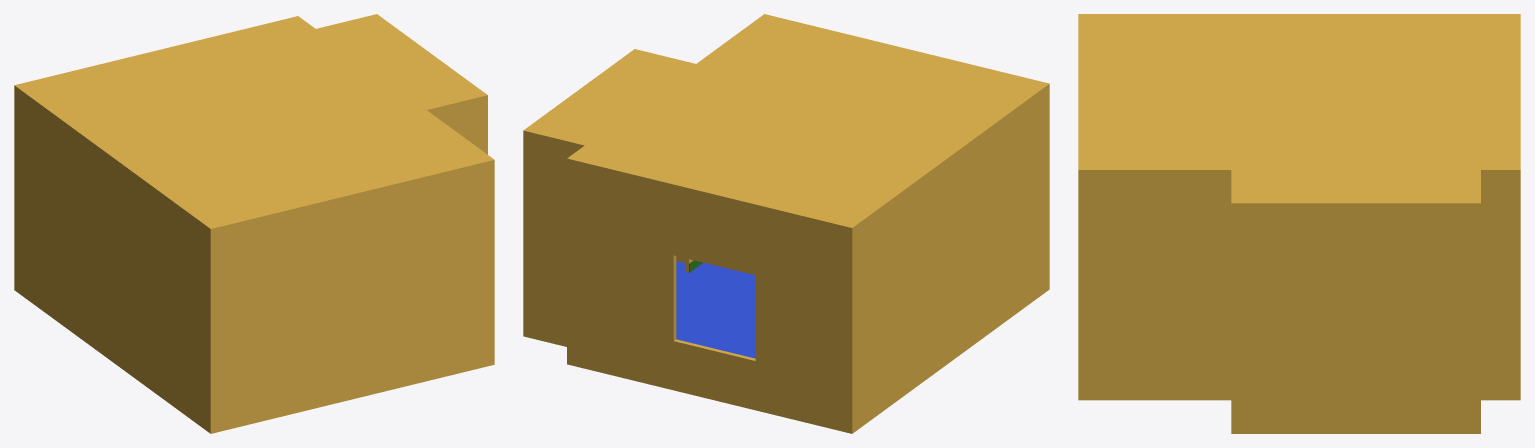
The model's file is StudioApartmentRoom.fbx.
3 renders of one model, left to right at view 1: azimuth 30°, elevation 25°; view 2: azimuth 150°, elevation 25°; view 3: azimuth 270°, elevation 25°, orthographic. The views are drawn at different scales.
Parts seen in each view (by area): view 1: Room; view 2: Room; view 3: Room.
Boxes of the visible parts, left/top/right/bottom form: Room: left=14, top=14, right=494, bottom=433; Room: left=523, top=14, right=1049, bottom=433; Room: left=1078, top=14, right=1520, bottom=433.
Bounding box in the file's own units: 5.64 × 5.56 × 3.2.
